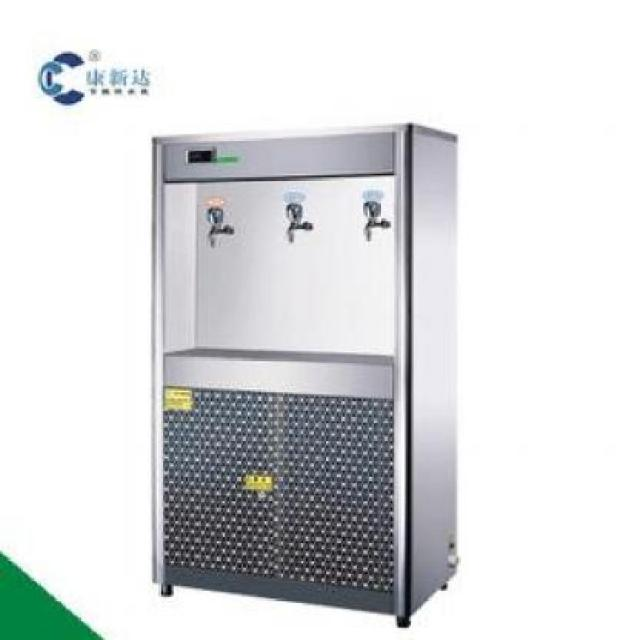cooler: (143, 120, 462, 634)
